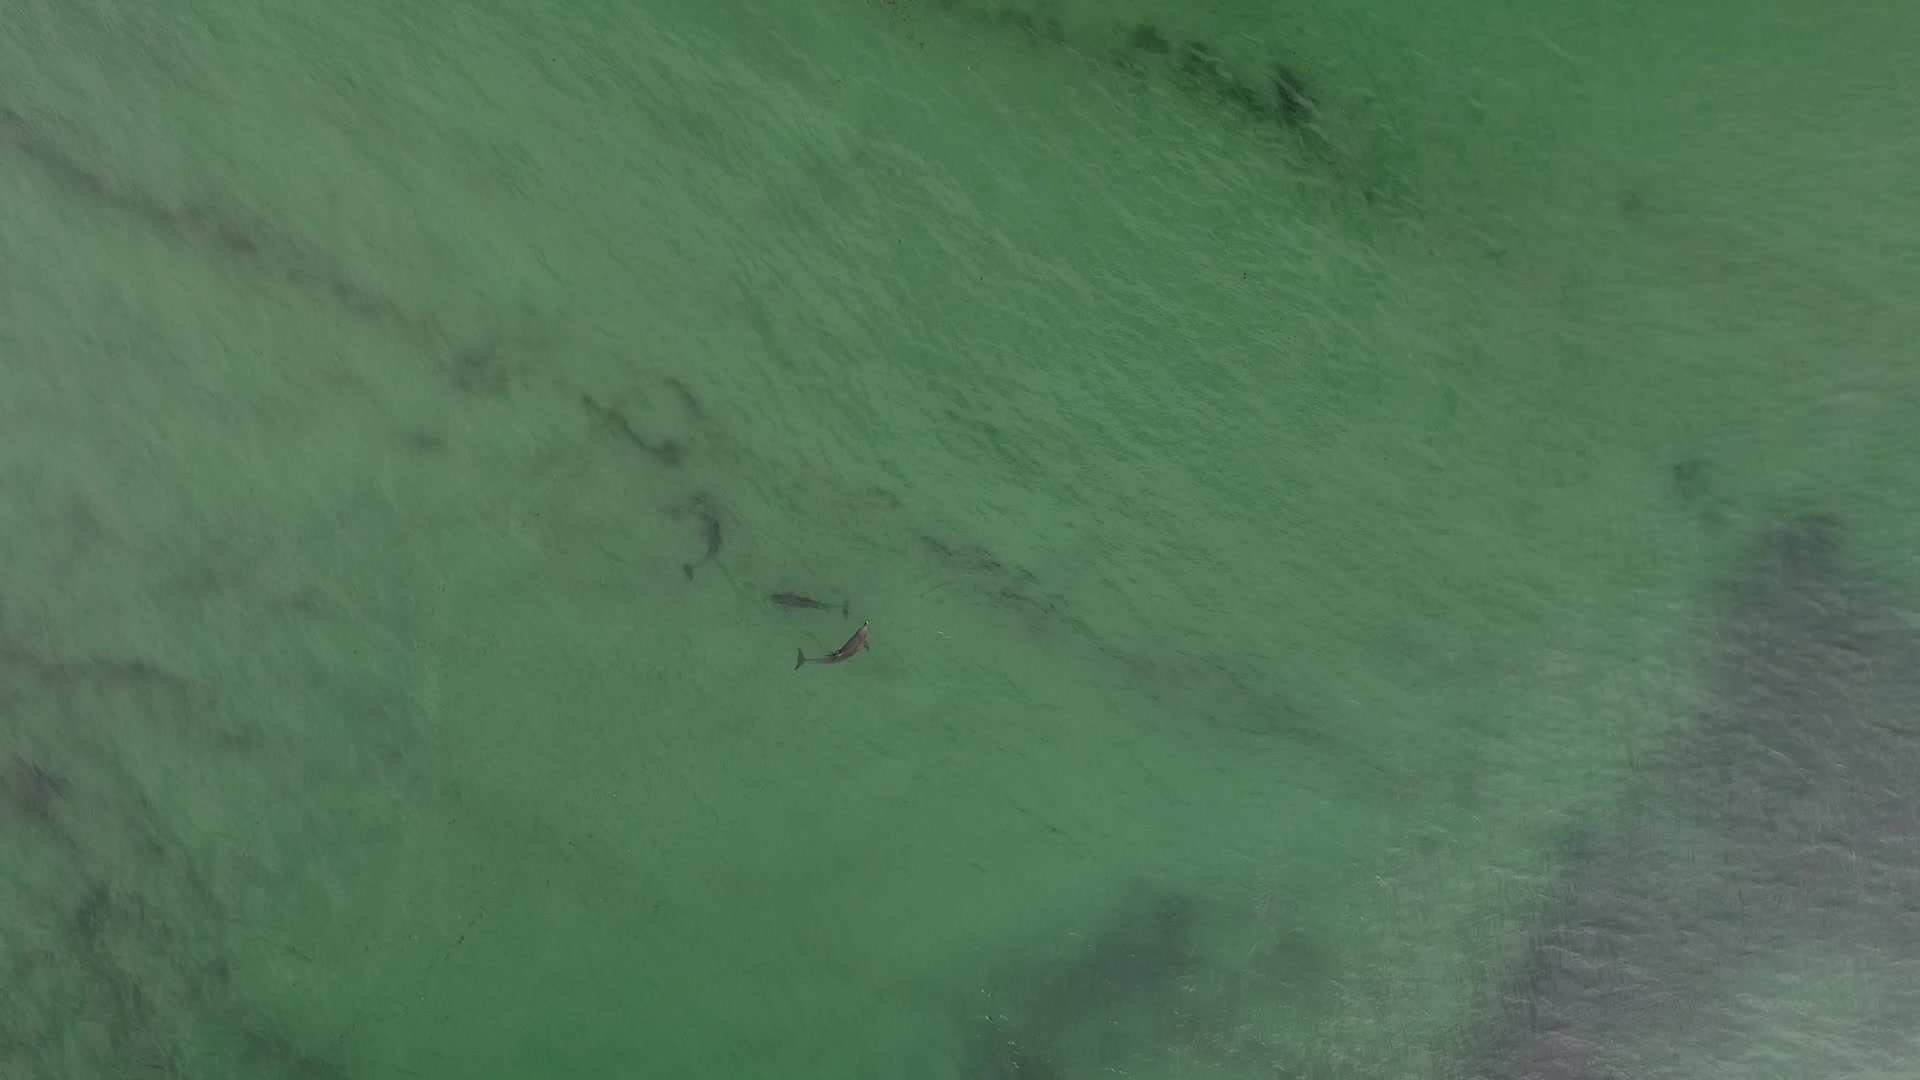dolphin: (777, 605, 893, 676), (744, 571, 862, 630)
